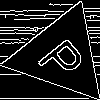P: (35, 30, 95, 85)
